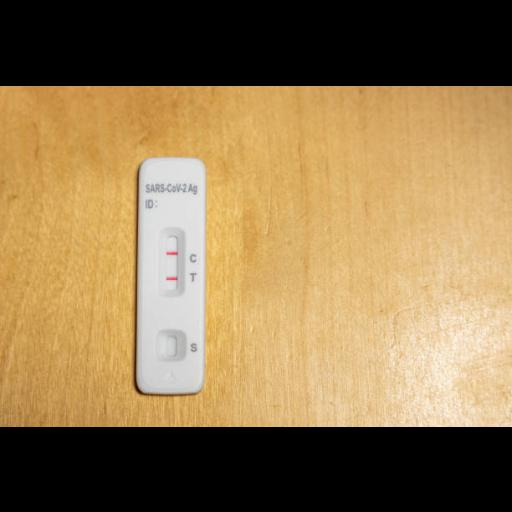Pos: (138, 156, 202, 392)
